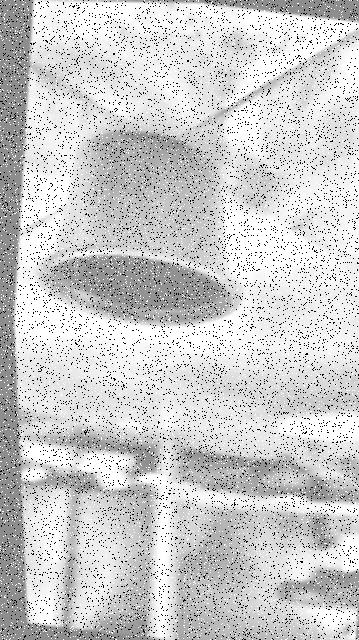pot: (41, 132, 237, 325)
